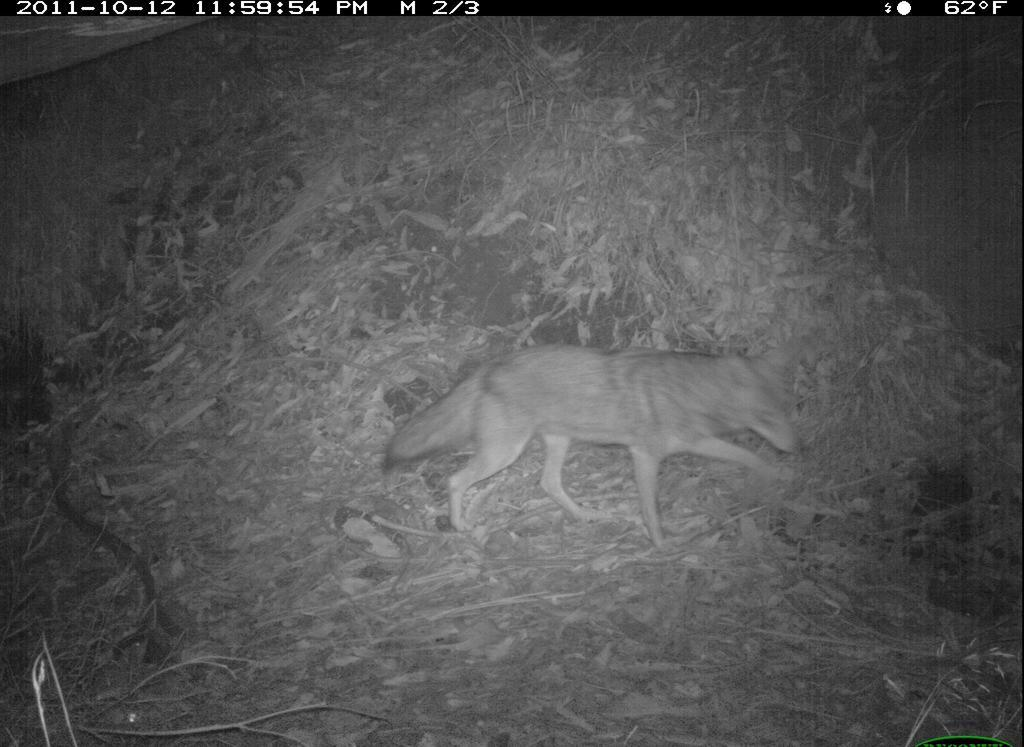coyote: (359, 324, 821, 562)
